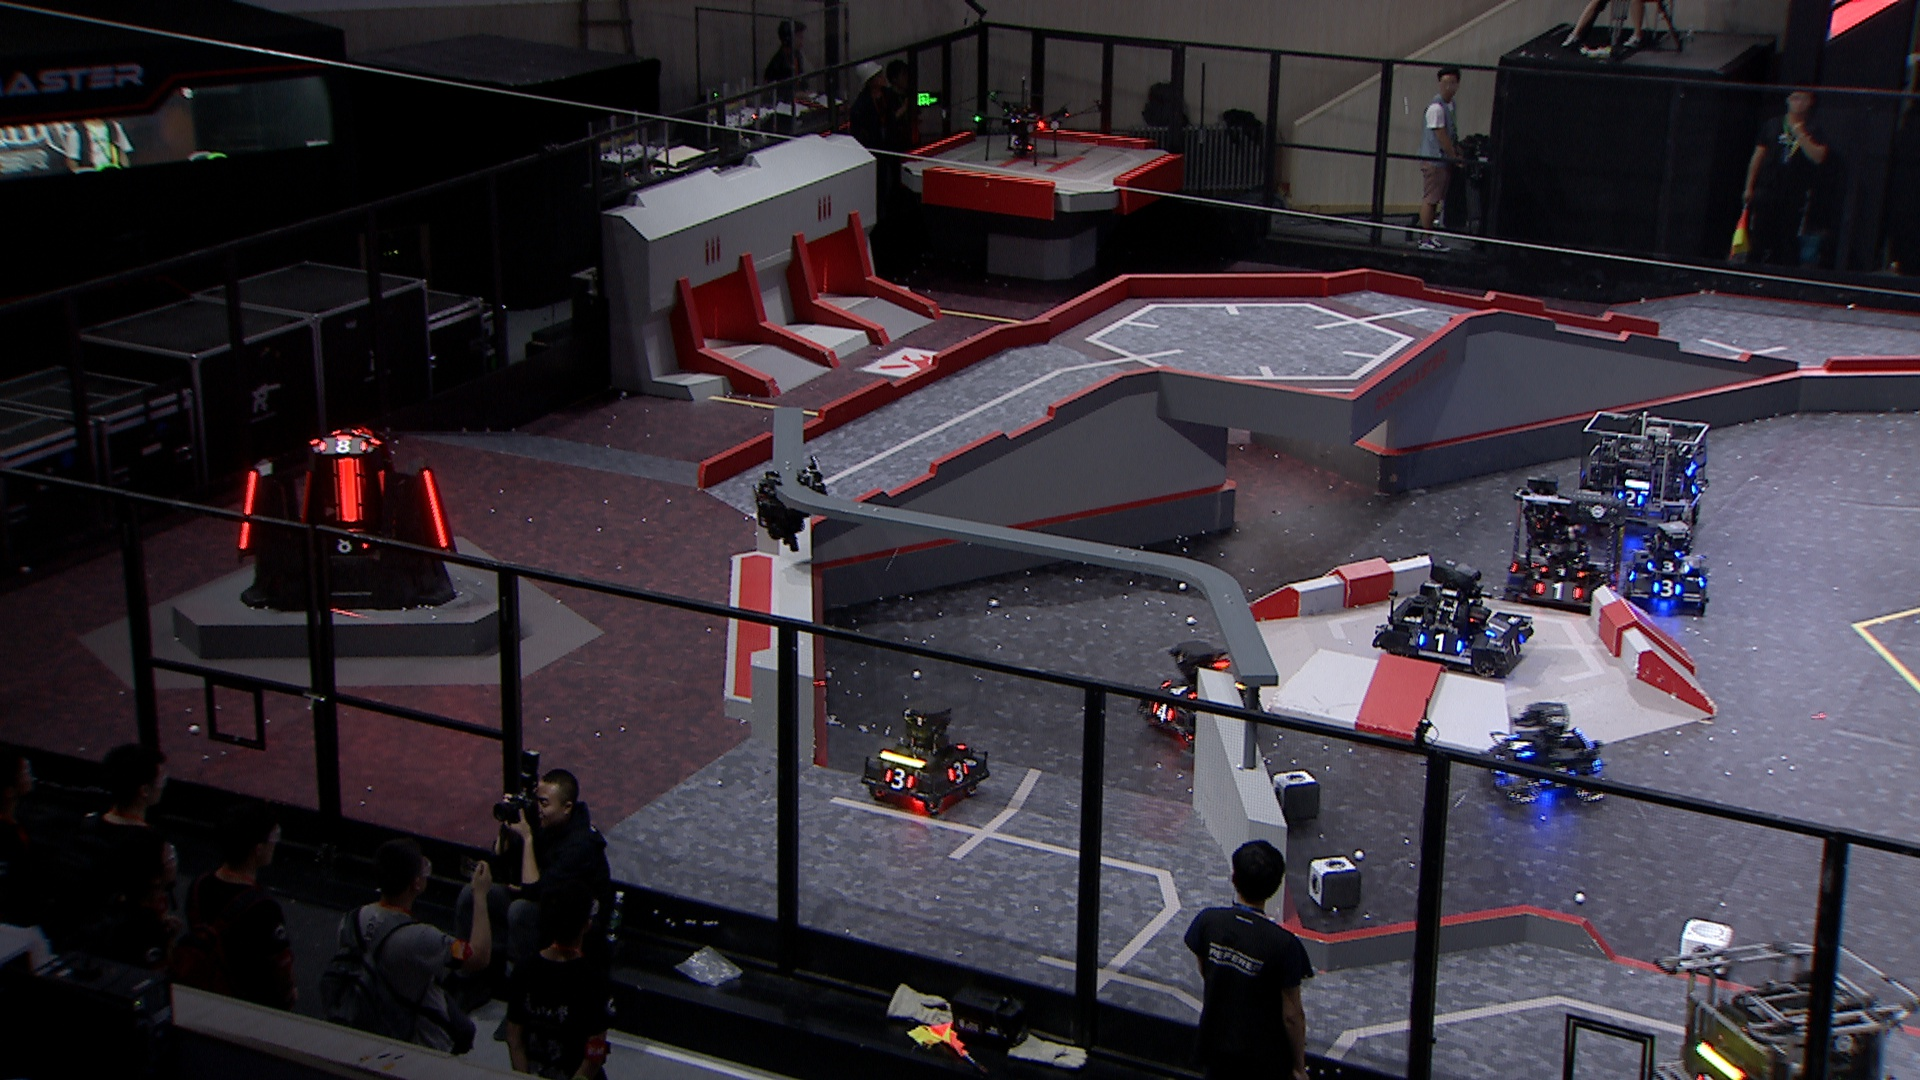armor: (419, 469, 451, 549), (334, 458, 367, 526), (237, 469, 258, 550), (1414, 633, 1466, 655), (1532, 582, 1586, 603), (314, 436, 371, 456), (878, 766, 920, 793), (1501, 733, 1534, 760), (328, 535, 372, 555), (1644, 559, 1693, 575), (299, 471, 314, 524), (1159, 680, 1200, 699), (1536, 564, 1588, 579), (944, 760, 973, 785), (1149, 700, 1176, 725), (1614, 488, 1647, 508), (1651, 579, 1685, 597), (1501, 633, 1527, 655), (1482, 618, 1506, 636), (376, 469, 389, 496)
base: (229, 425, 465, 615)
car: (1651, 938, 1917, 1080), (1370, 556, 1538, 676), (1572, 410, 1716, 541), (1501, 475, 1629, 611), (860, 698, 996, 815), (1481, 699, 1611, 806), (1139, 638, 1261, 745), (1622, 520, 1714, 616)
watcher: (752, 455, 833, 555)
